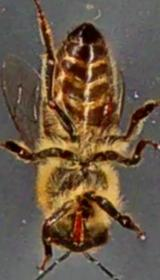varroa_mite: (95, 87, 120, 126)
